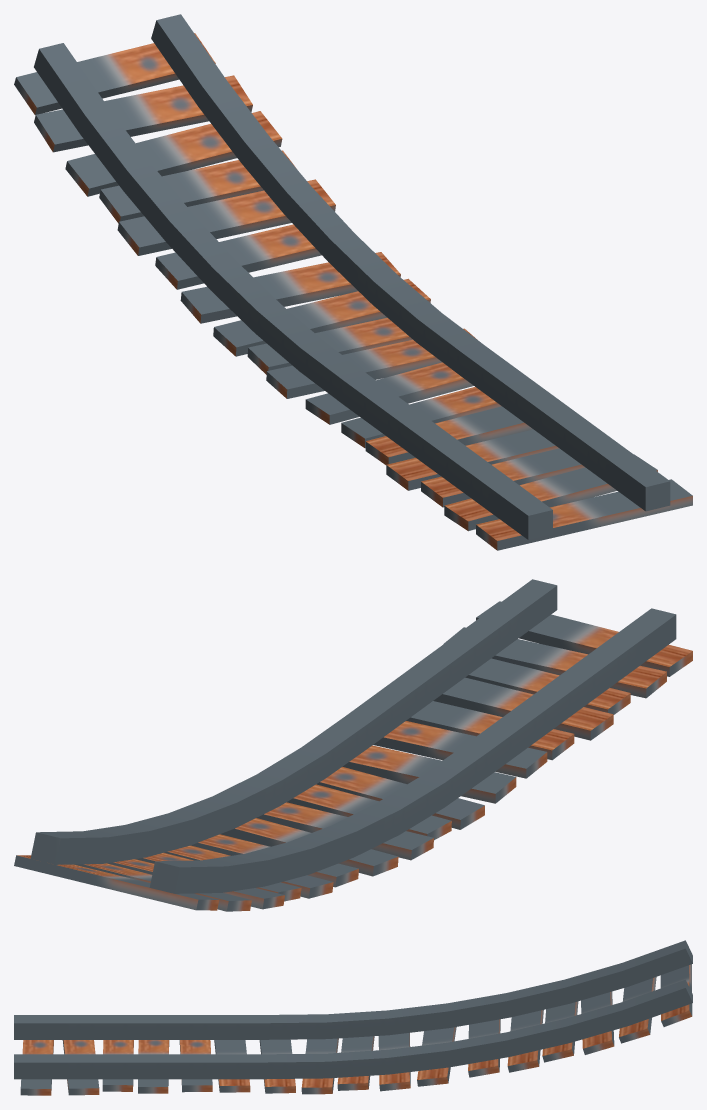
File: road_up.fbx
3 views of the same model, one above another, from view 1: azimuth 30°, elevation 25°; view 2: azimuth 150°, elevation 25°; view 3: azimuth 270°, elevation 25° (orthographic). The views are drawn at different scales.
Parts seen in each view (by area): view 1: up; view 2: up; view 3: up.
Part boxes in pixels (x1=…): up: x1=14, y1=14, x2=692, y2=550; up: x1=14, y1=579, x2=692, y2=911; up: x1=14, y1=940, x2=692, y2=1095.
Bounding box in the file's own units: 12.59 × 8.65 × 54.1.
